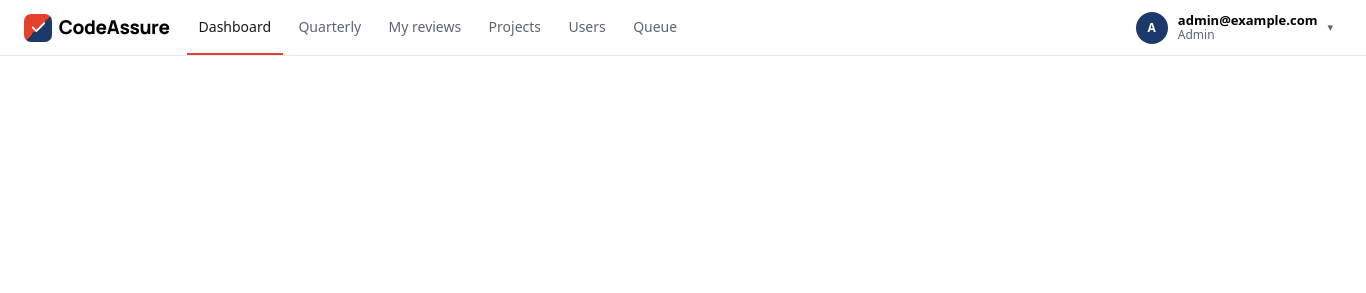
Test: account menu opens, shows permitted items, closes on Escape and returns focus
The width and height of the screenshot is (1366, 293).
Click the button with aria-label "account menu": [1236, 28] box [1131,6,1342,48]
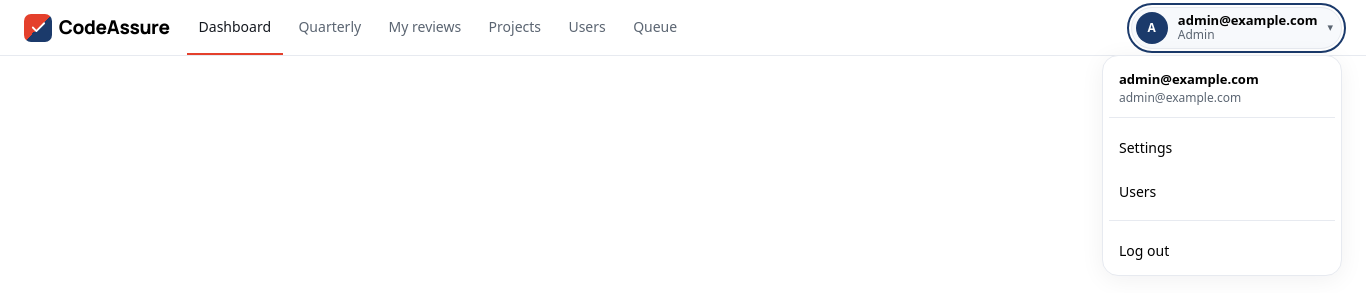
Now the button with aria-label "account menu" is expanded, box [1131,6,1342,48]
Now the menu item "Settings" is shown, box [1109,129,1335,166]
Now the menu item "Users" is shown, box [1109,173,1335,210]
Press Escape
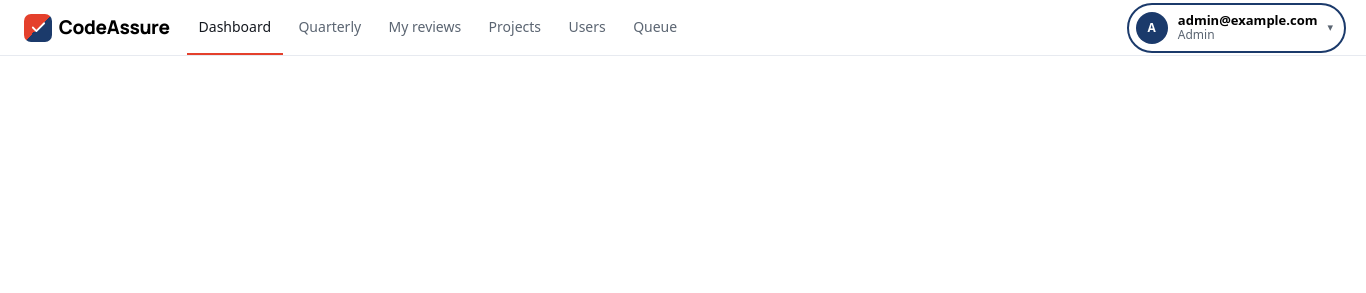
Now the menu is gone
